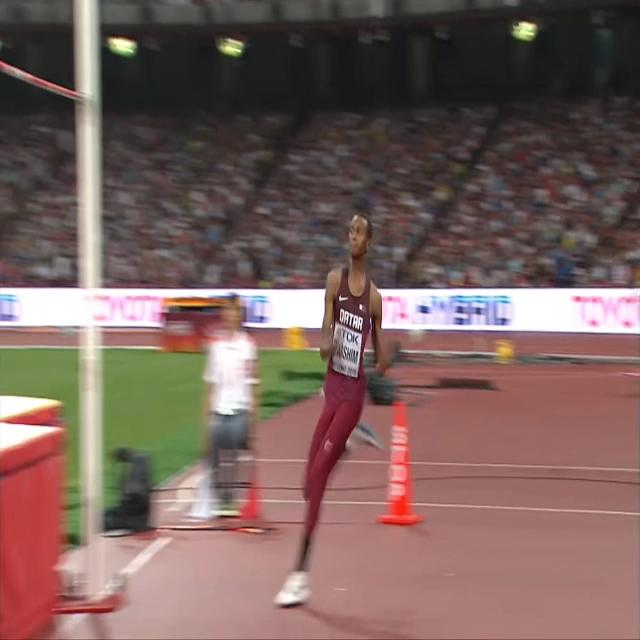run: (274, 209, 390, 611)
